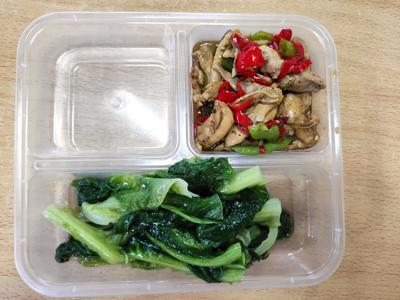ymc: (34, 162, 325, 282)
